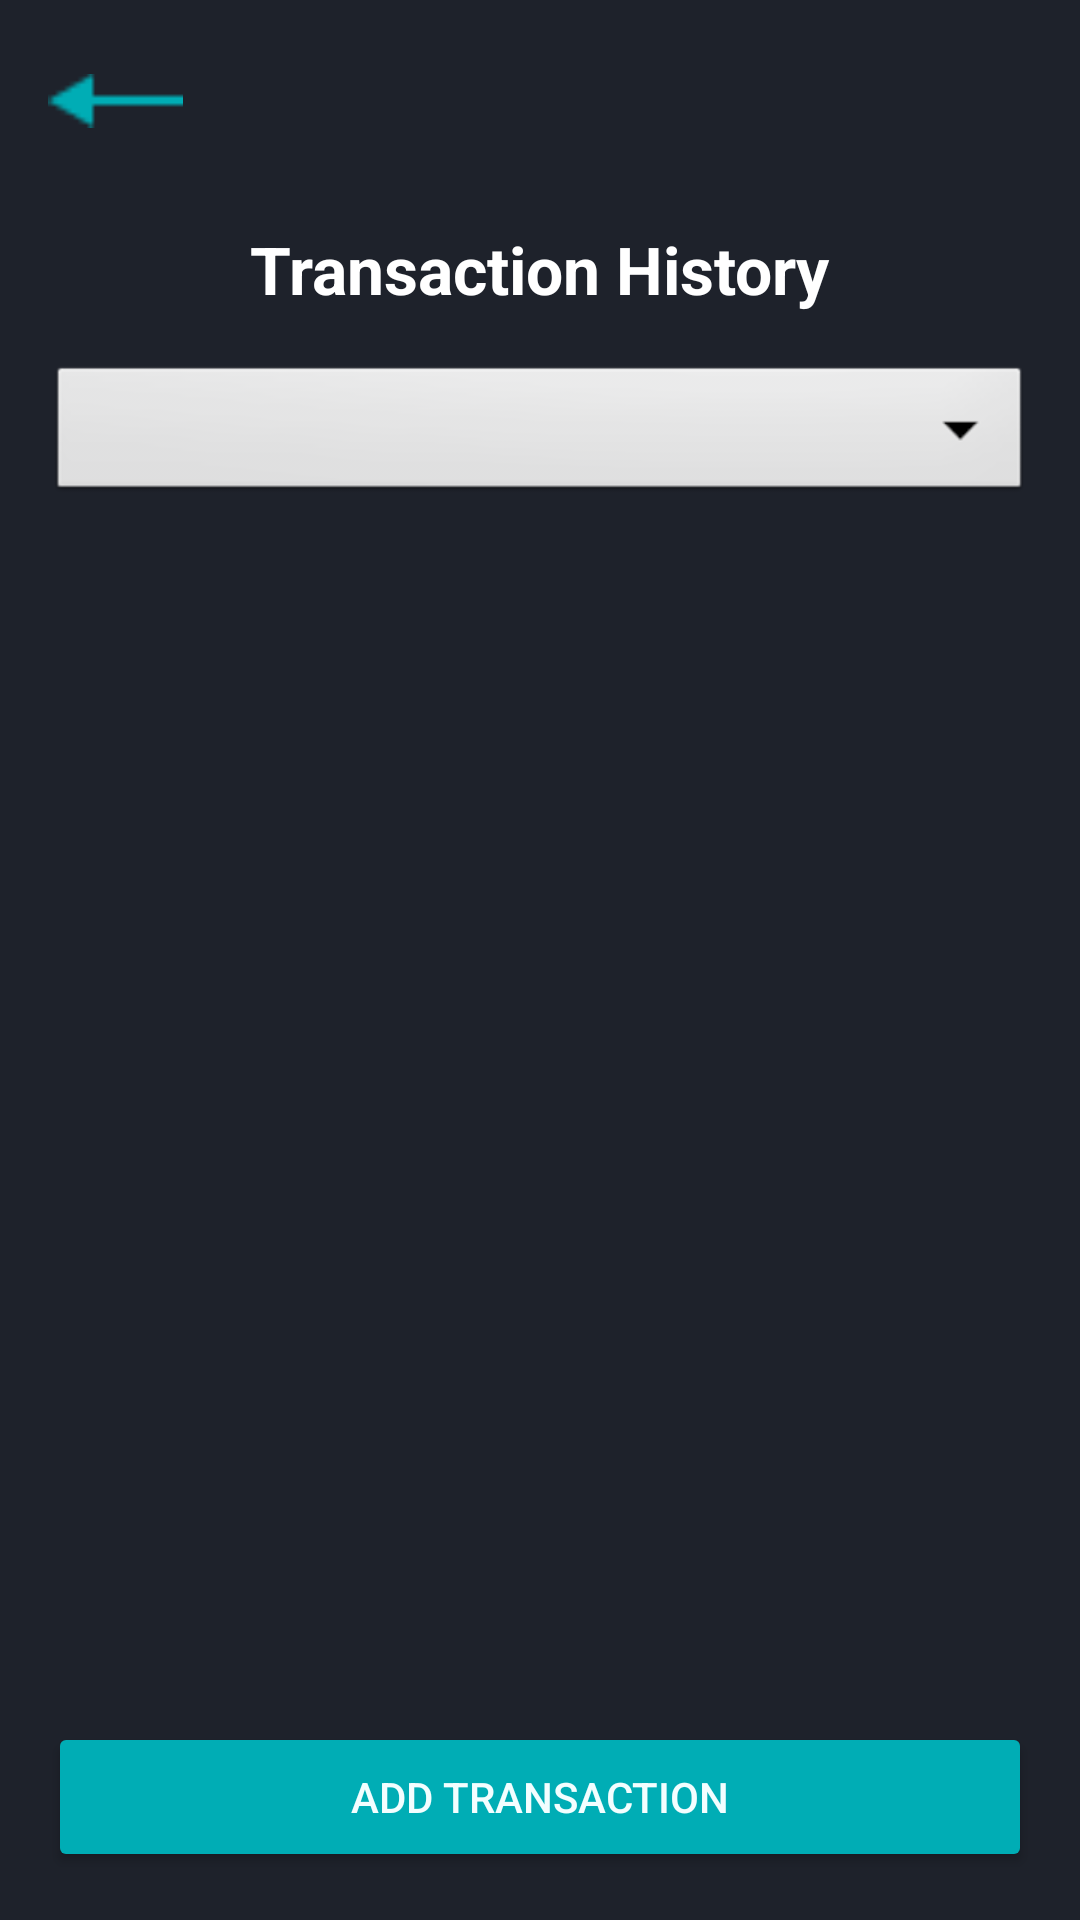

Screen size 1080 × 1920. Icon name, then its box in pixels as (x1, y1, x2, y2):
Back: (48, 74, 183, 128)
